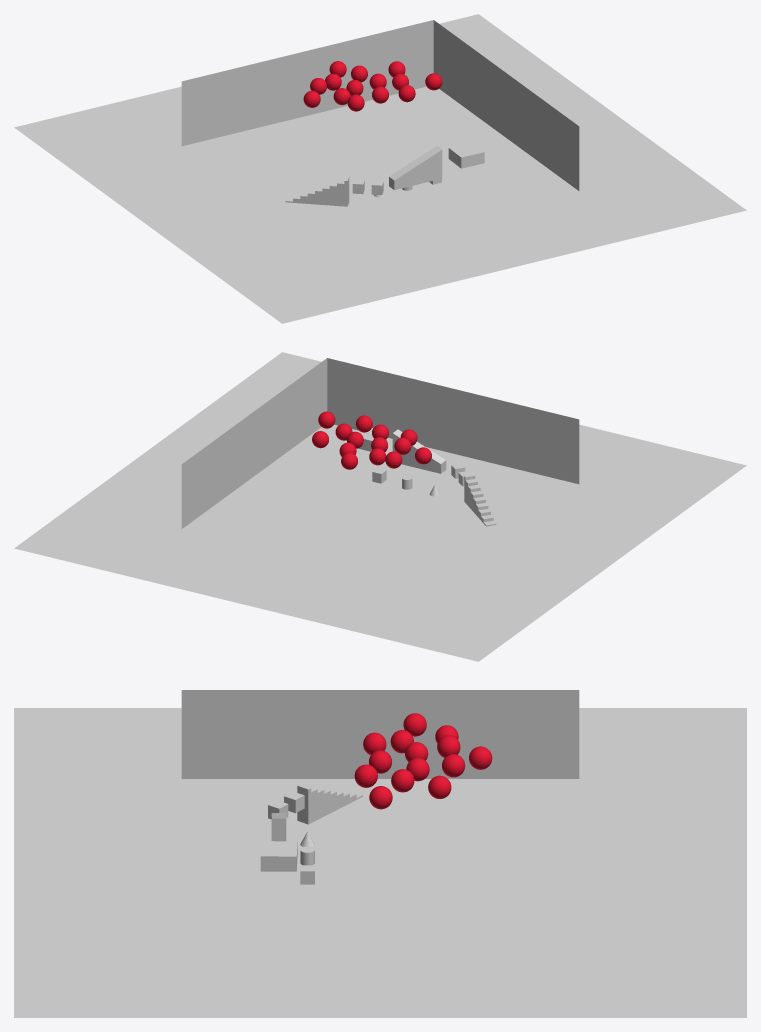
The model's file is level_1_with_balls.glb.
3 views of the same model, one above another, from view 1: azimuth 30°, elevation 25°; view 2: azimuth 150°, elevation 25°; view 3: azimuth 270°, elevation 25° (orthographic). The views are drawn at different scales.
Parts seen in each view (by area): view 1: Plane, Cube.003, Cube.005, Cube.002, Cube.006; view 2: Plane, Cube.003, Cube.002, Cube.005; view 3: Plane, Cube.003, Cube.002, Cube.006.
Boxes of the visible parts, <box> form: Plane: <box>14,14,746,323</box>; Cube.003: <box>181,20,579,190</box>; Cube.005: <box>389,146,442,190</box>; Cube.002: <box>285,176,349,206</box>; Cube.006: <box>448,142,484,168</box>; Plane: <box>14,352,746,661</box>; Cube.003: <box>181,358,579,528</box>; Cube.002: <box>464,474,496,526</box>; Cube.005: <box>392,429,446,473</box>; Plane: <box>14,708,746,1017</box>; Cube.003: <box>181,690,579,778</box>; Cube.002: <box>297,784,362,824</box>; Cube.006: <box>260,841,297,871</box>.
Size of the model in its own units: 101 by 18.45 by 101.
